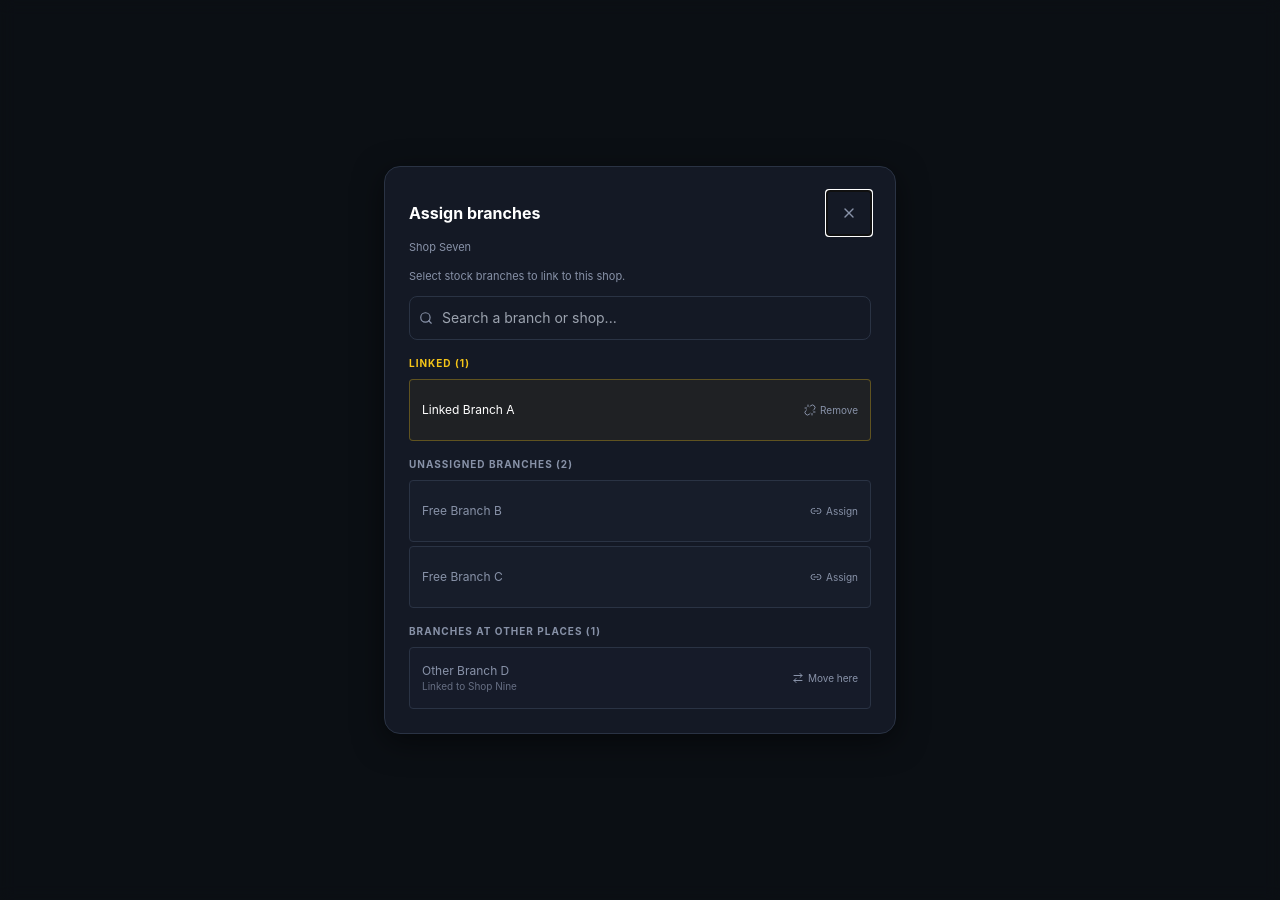
Scenario: AssignProviderDialog › filters all three sections by the search field
Expected: the text "Free Branch B" is shown, [422, 503, 502, 519]
Step 1. Type "Branch C" into the field labelled "Search a branch or shop..." → (640, 318), box [409, 296, 871, 340]
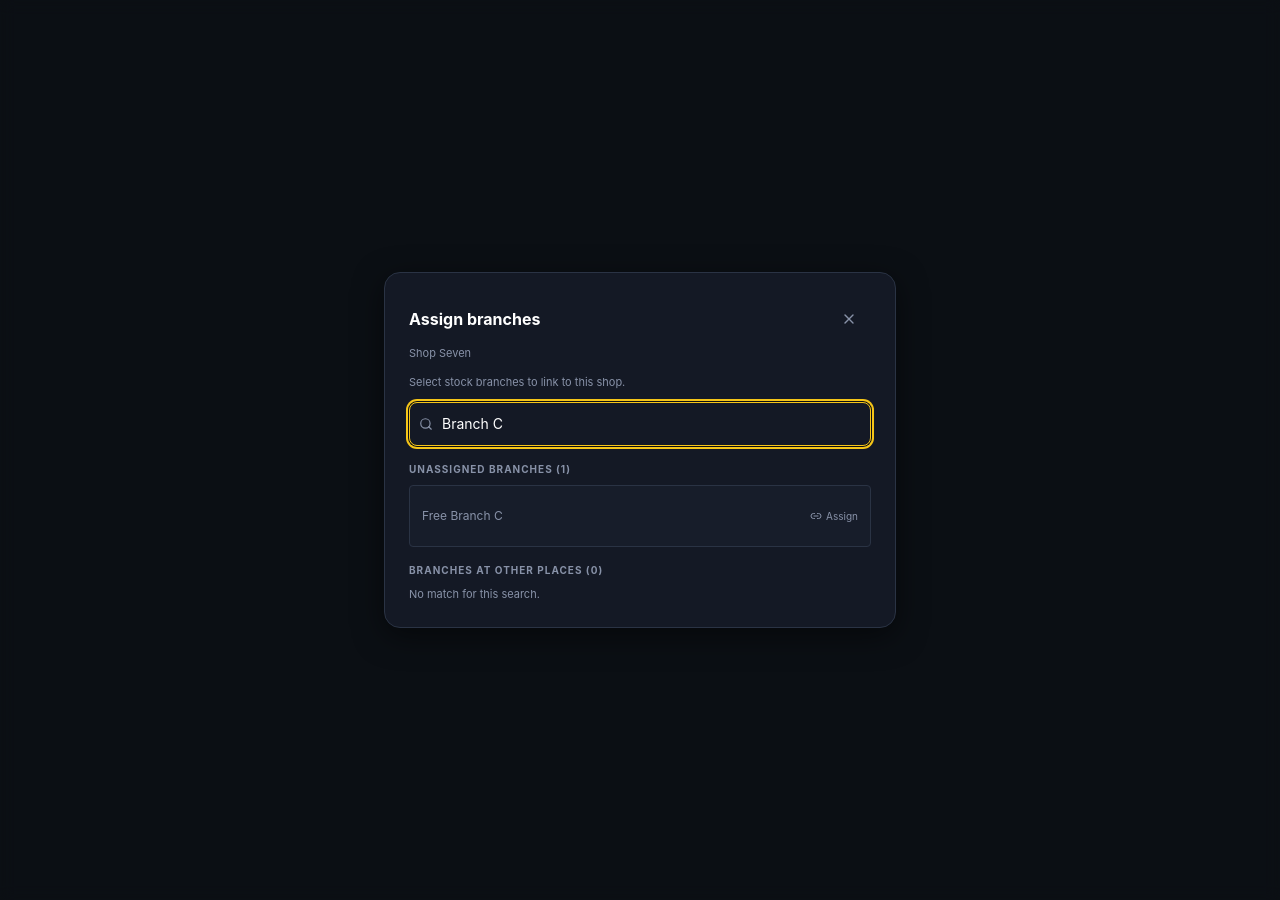
Expected: the text "Free Branch C" is shown, [422, 508, 503, 524]
Expected: the text "Free Branch B" is gone
Expected: the text "Linked Branch A" is gone
